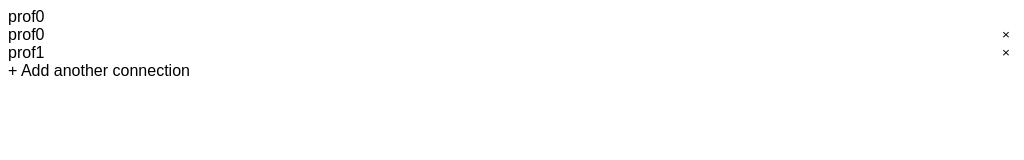
Test: clicking × on a row disconnects without switching active
Click the button with test id "connection-disconnect-c1".
click(1006, 53)  # box top-left (1002, 45), bottom-right (1010, 60)
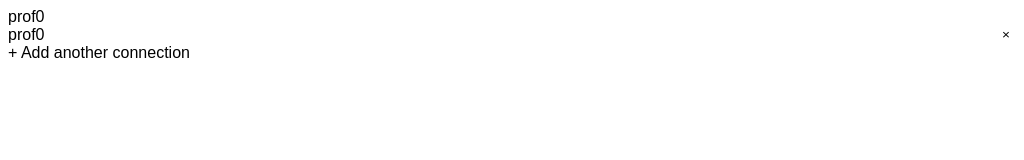
Expected: the button with test id "connection-trigger" reads "prof0", top-left (8, 8), bottom-right (44, 25)
Result: the menu item with test id "connection-row-c1" is gone
